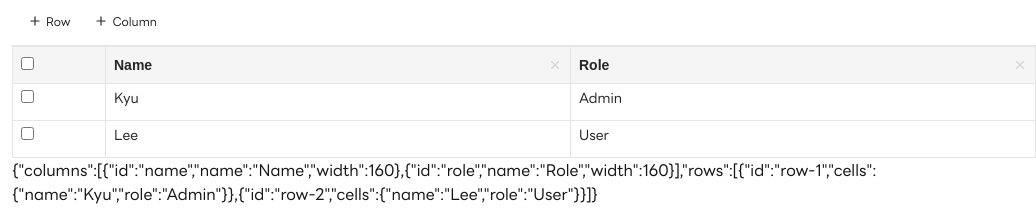
Test: TableGrid › keeps cell and column inputs mounted while editing values
Replace the text in the 1st field named "Column name" with "Member" at (329, 65), box [114,55,544,75]
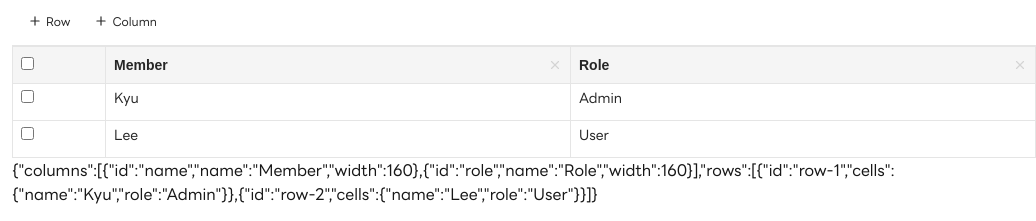
Replace the text in the 1st text box showing "Kyu" with "Kyuho" at (338, 102), box [114,88,562,116]
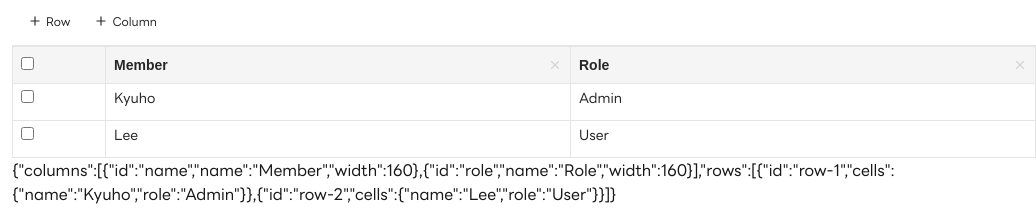
Expected: the text with test id "source" shows "\"name\":\"Member\"", [12,159,894,204]
Expected: the text with test id "source" shows "\"name\":\"Kyuho\"", [12,159,894,204]
